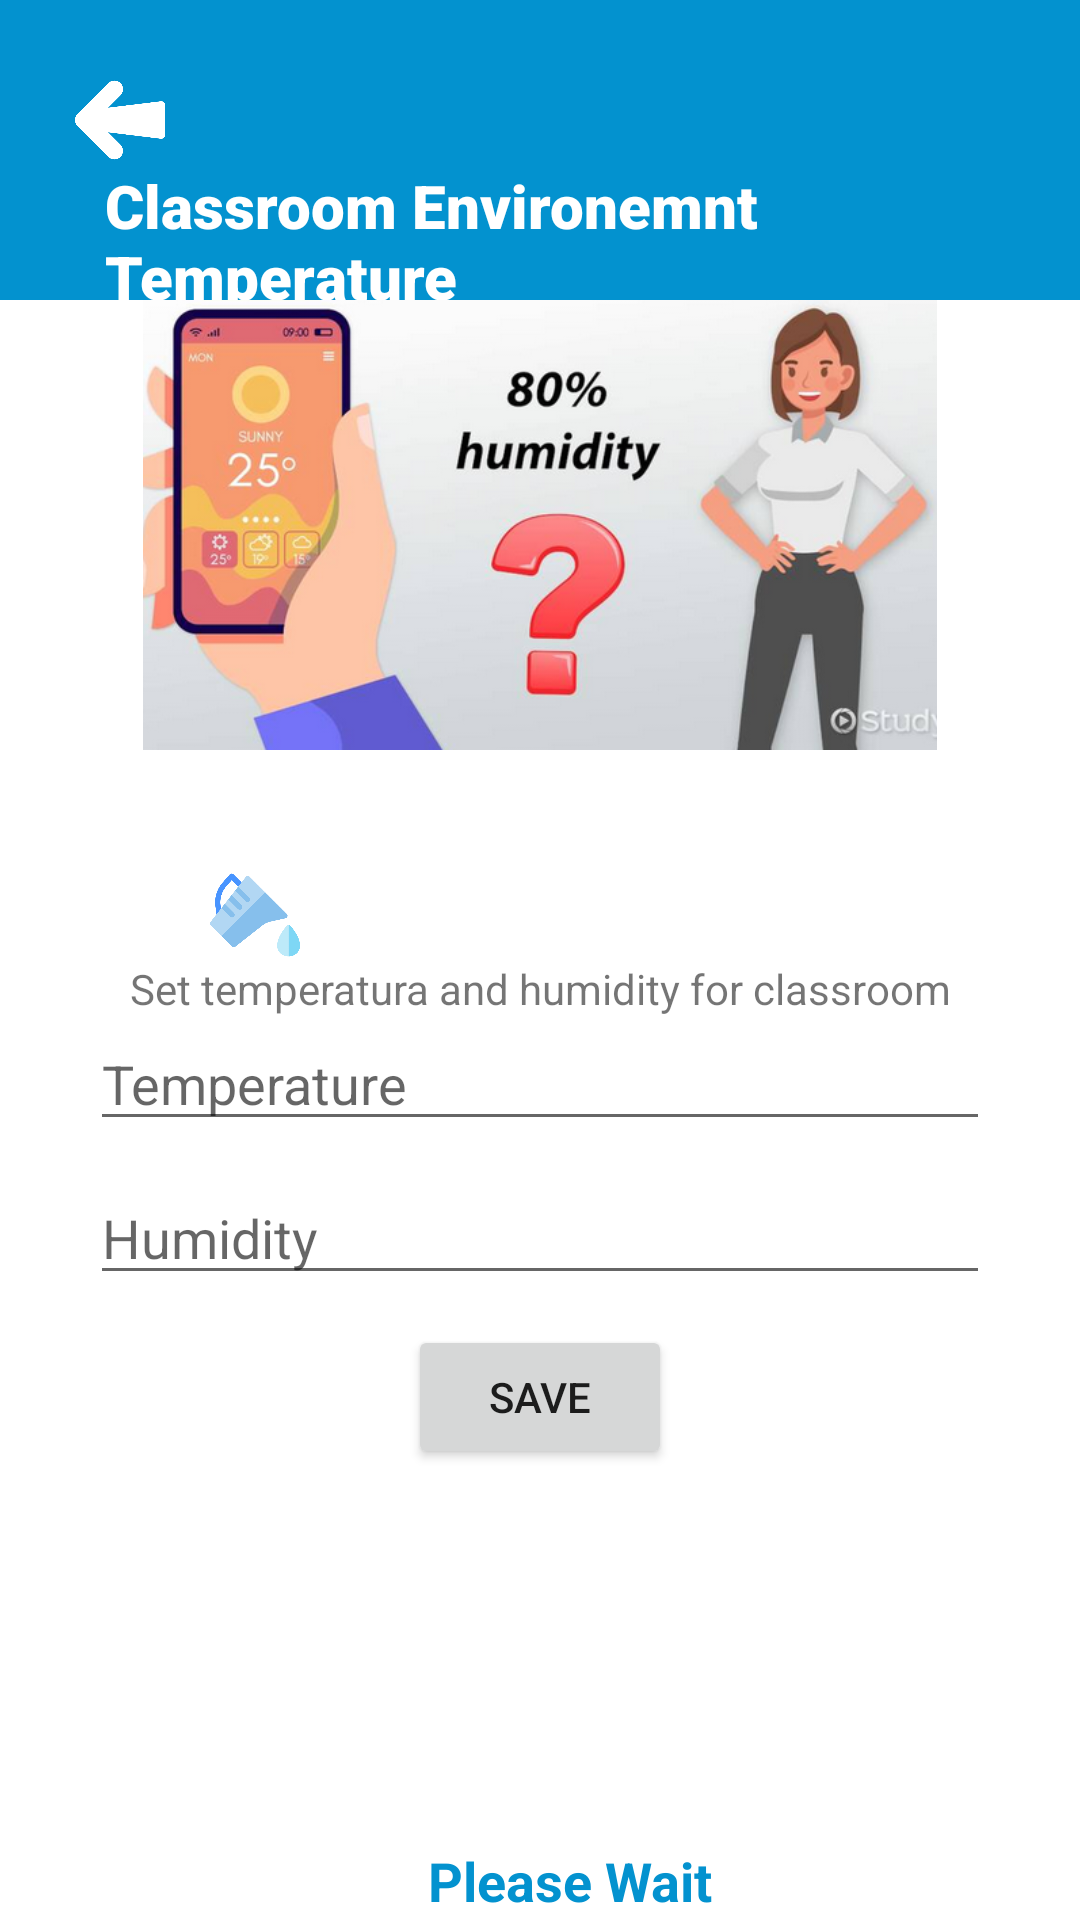

Icon click points for this 1080x1920 phone screenshot, format (x,y):
back arrow: (120,120)
liquid: (255,915)
